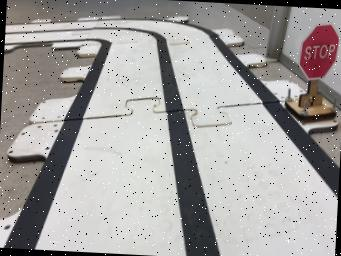stop: (284, 23, 339, 125), (284, 23, 339, 125), (284, 23, 339, 125)
street: (4, 16, 339, 256), (4, 16, 339, 256), (4, 16, 339, 256)
